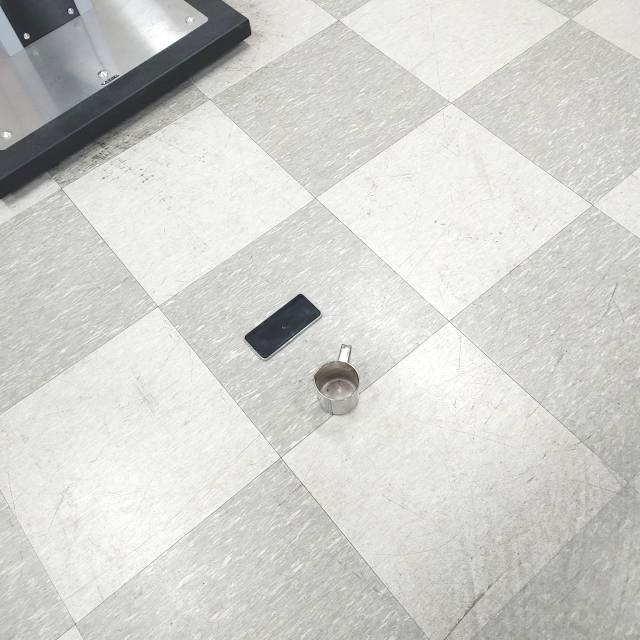cup: (313, 342, 361, 418)
phone: (243, 292, 322, 361)
